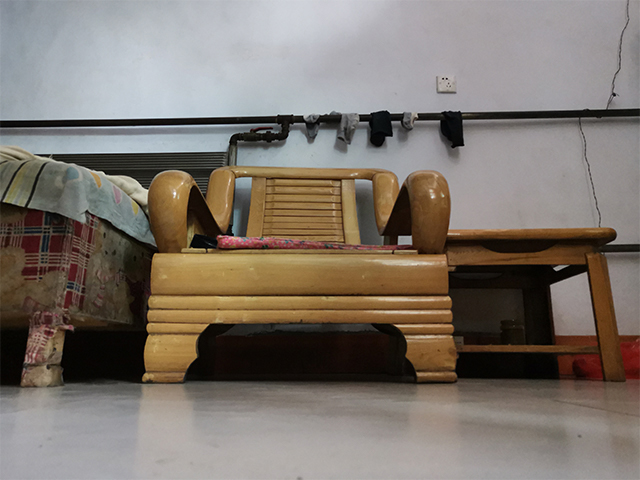bed: (1, 141, 160, 389)
stool: (139, 162, 460, 385)
table: (445, 226, 627, 383)
